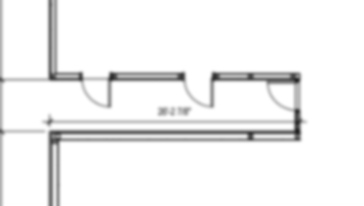door: (183, 72, 219, 109), (79, 73, 114, 109), (264, 78, 301, 111)
